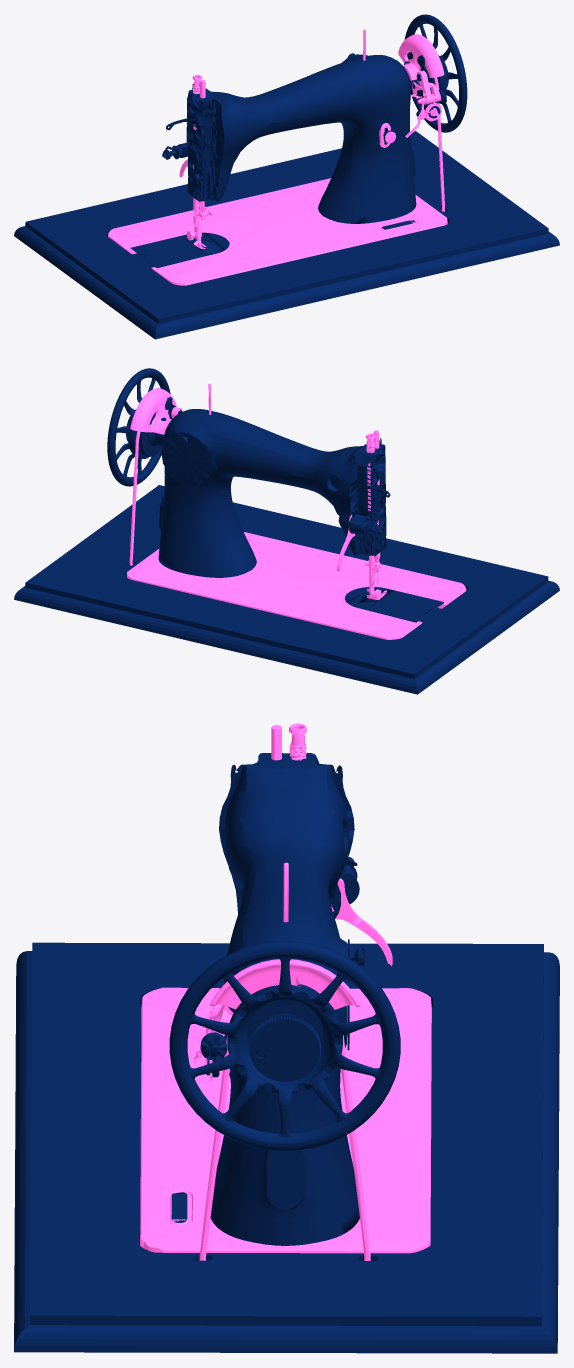
The model's file is MachineACoudre.fbx.
The picture shows the model from 3 angles, top to bottom: view 1: azimuth 30°, elevation 25°; view 2: azimuth 150°, elevation 25°; view 3: azimuth 270°, elevation 25°; orthographic projection. The views are drawn at different scales.
Parts seen in each view (by area): view 1: Sewing_machine, Sewing_machine_N080; view 2: Sewing_machine, Sewing_machine_N080; view 3: Sewing_machine, Sewing_machine_N080.
Part boxes in pixels (x1,y1,x2,y2): Sewing_machine: (14, 29, 559, 339); Sewing_machine_N080: (404, 14, 467, 132); Sewing_machine: (14, 383, 559, 694); Sewing_machine_N080: (107, 368, 170, 486); Sewing_machine: (14, 723, 559, 1353); Sewing_machine_N080: (169, 941, 400, 1151).
Size of the model in its own units: 432 by 198 by 263.
